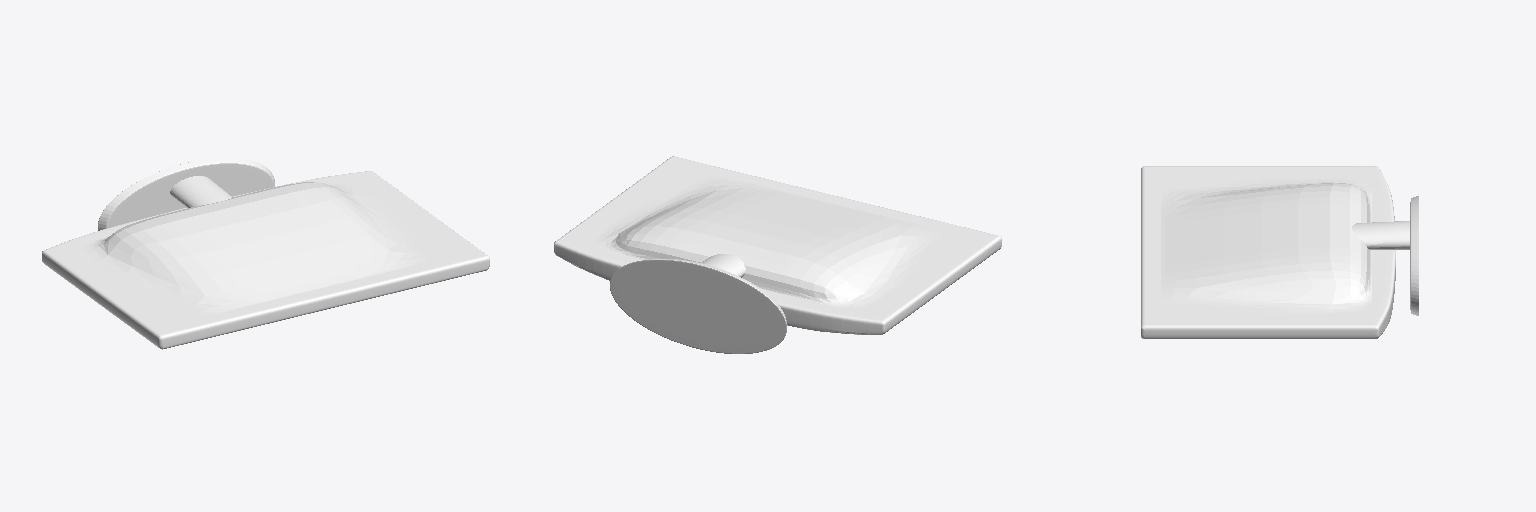
File: Television.obj
3 views of the same model, side by side, from view 1: azimuth 30°, elevation 25°; view 2: azimuth 150°, elevation 25°; view 3: azimuth 270°, elevation 25° (orthographic).
Parts seen in each view (by area): view 1: 10113_Flat_Screen_Television_v1; view 2: 10113_Flat_Screen_Television_v1; view 3: 10113_Flat_Screen_Television_v1.
Part boxes in pixels (bbox=[...]): 10113_Flat_Screen_Television_v1: bbox=[42, 158, 489, 349]; 10113_Flat_Screen_Television_v1: bbox=[554, 156, 1001, 353]; 10113_Flat_Screen_Television_v1: bbox=[1141, 166, 1418, 338].
Bounding box in the file's own units: 98.29 × 23.94 × 71.53.